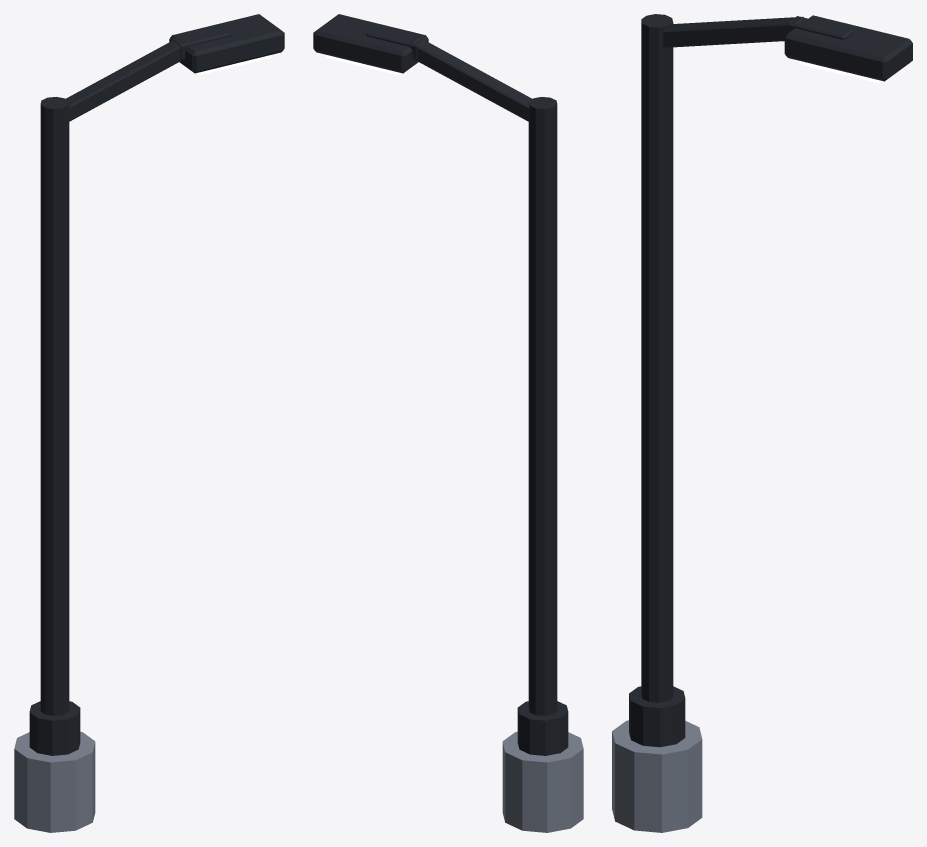
The model's file is City_Env_Lamp.fbx.
3 views of the same model, side by side, from view 1: azimuth 30°, elevation 25°; view 2: azimuth 150°, elevation 25°; view 3: azimuth 330°, elevation 25° (orthographic). The views are drawn at different scales.
Visible parts, largest first — view 1: City_Env_Lamp; view 2: City_Env_Lamp; view 3: City_Env_Lamp.
Boxes of the visible parts, x1,y1,x2,y2 form: City_Env_Lamp: (14,14,284,832); City_Env_Lamp: (313,14,583,832); City_Env_Lamp: (612,14,912,832).
Bounding box in the file's own units: 1.69 × 4.76 × 0.48.
